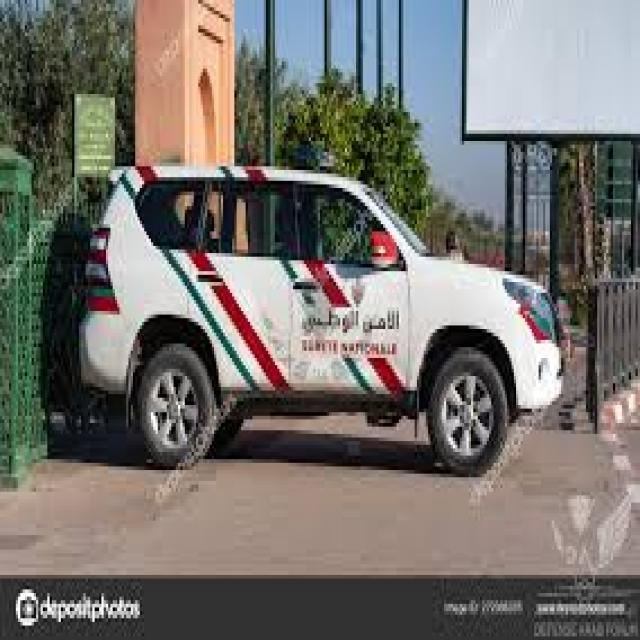police: (78, 161, 559, 469)
